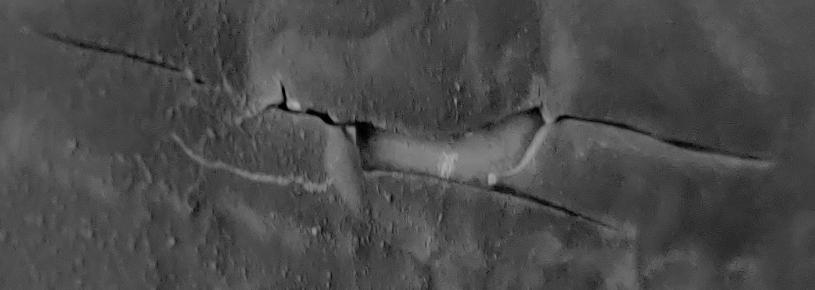crack: (0, 1, 815, 290)
